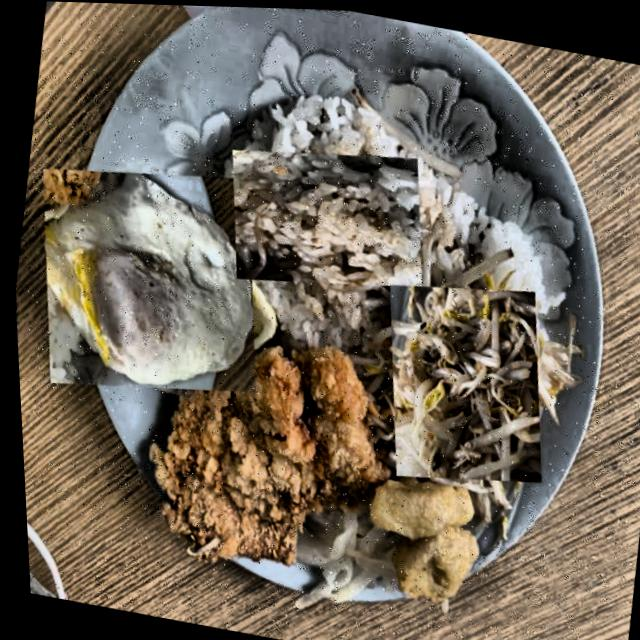Food: (104, 305, 401, 600), (6, 140, 286, 422), (355, 262, 567, 502), (219, 113, 431, 321), (345, 459, 493, 616)
